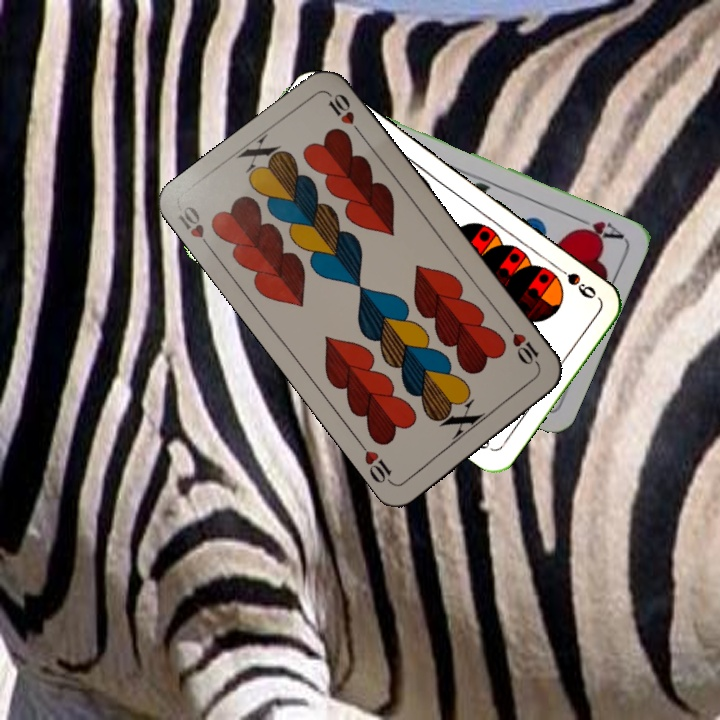H10: (173, 201, 217, 255), (502, 320, 543, 371)
HA: (568, 212, 626, 244)
S9: (550, 260, 599, 302)
